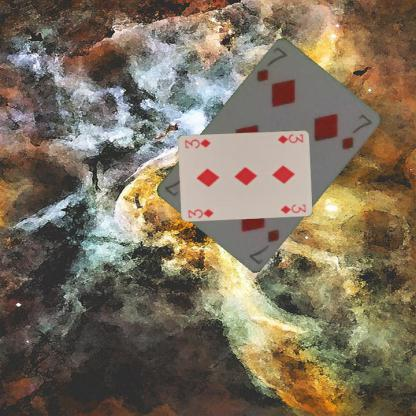3d: (275, 131, 304, 145), (186, 206, 215, 219)
7d: (246, 226, 281, 266), (254, 44, 289, 84)
